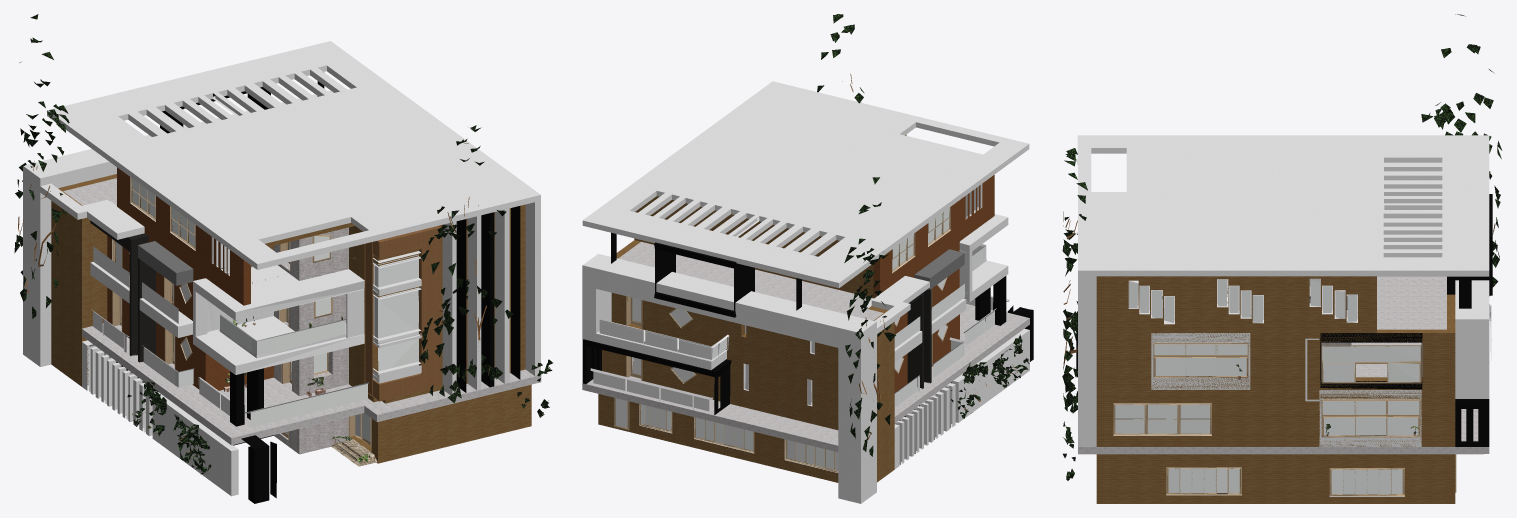
3 views of the same model, side by side, from view 1: azimuth 30°, elevation 25°; view 2: azimuth 150°, elevation 25°; view 3: azimuth 270°, elevation 25° (orthographic). The views are drawn at different scales.
Size of the model in its own units: 17.22 by 18.14 by 21.03.
Materials: 47 (25 with a texture image).
